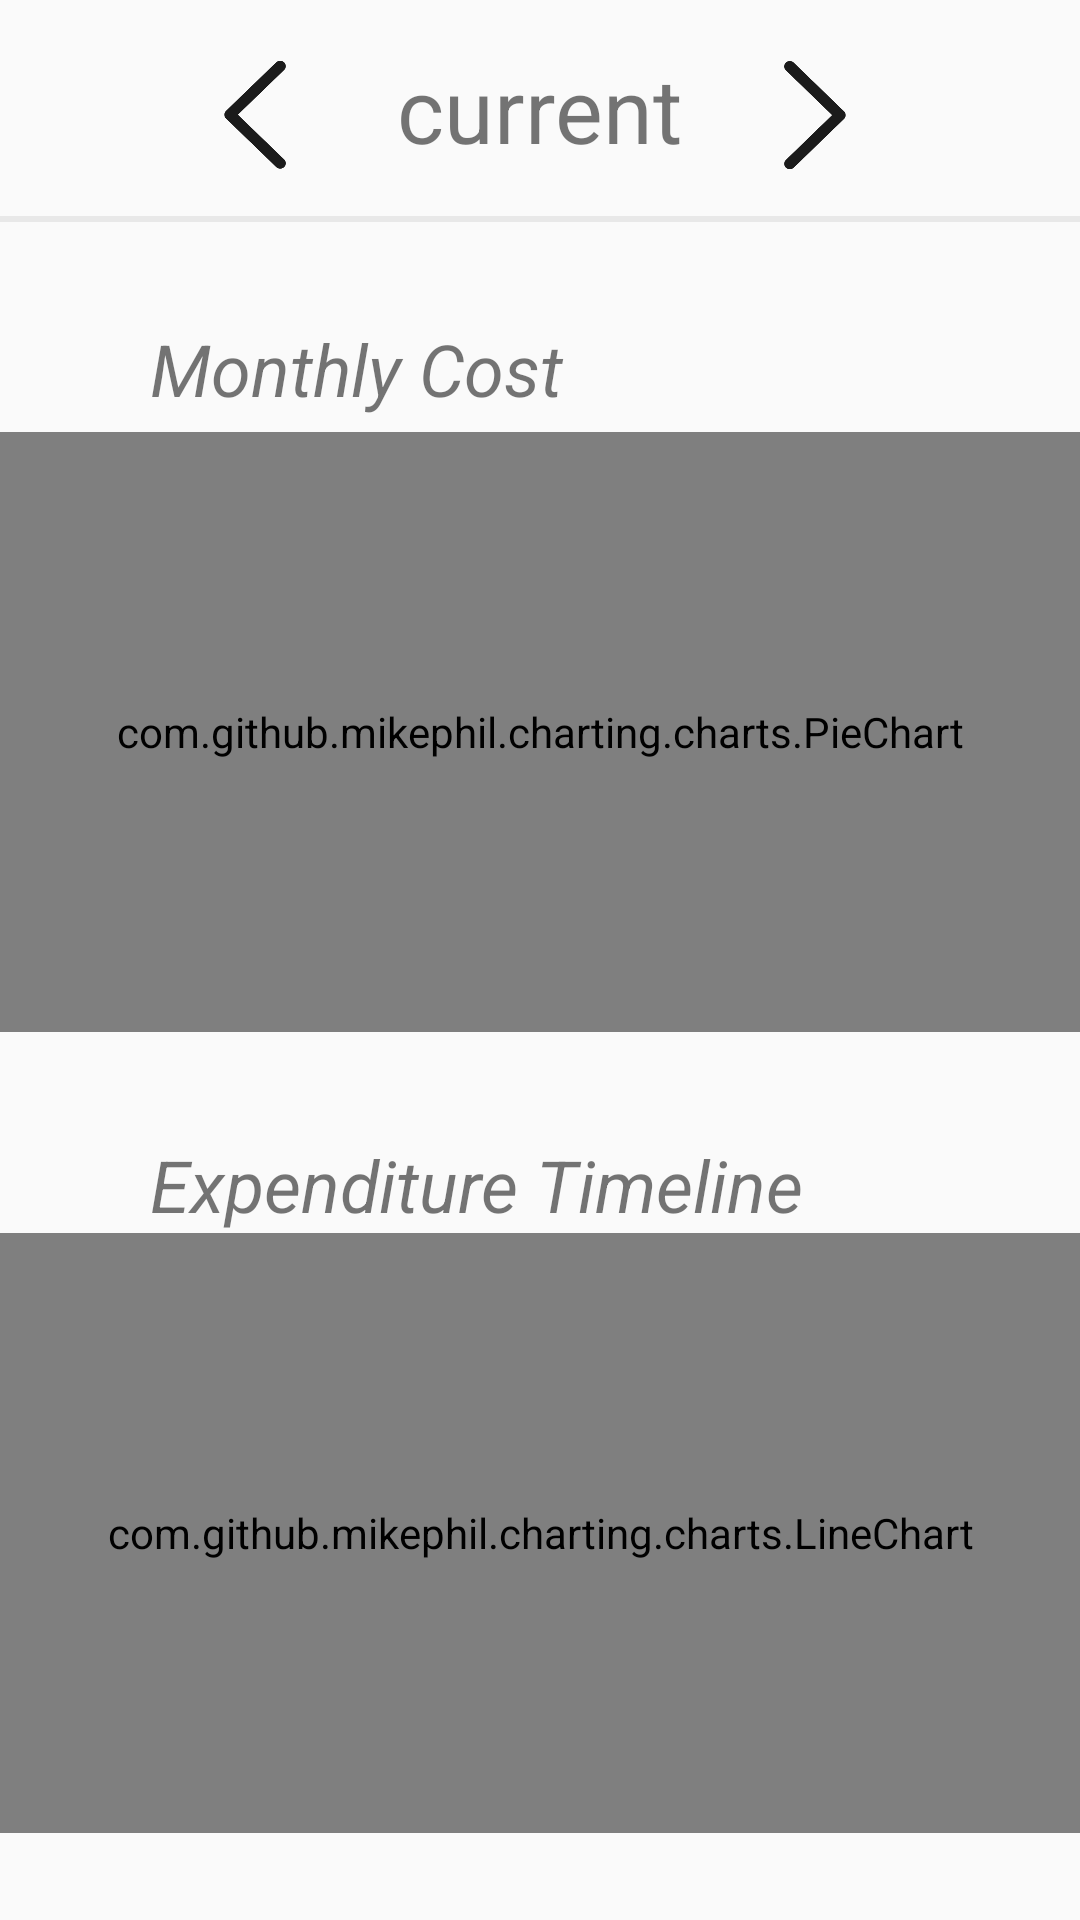

Named icons in this screenshot (1080 x 1920) and their centers, point (x, y):
left arrow: point (255, 115)
right arrow: point (815, 115)
